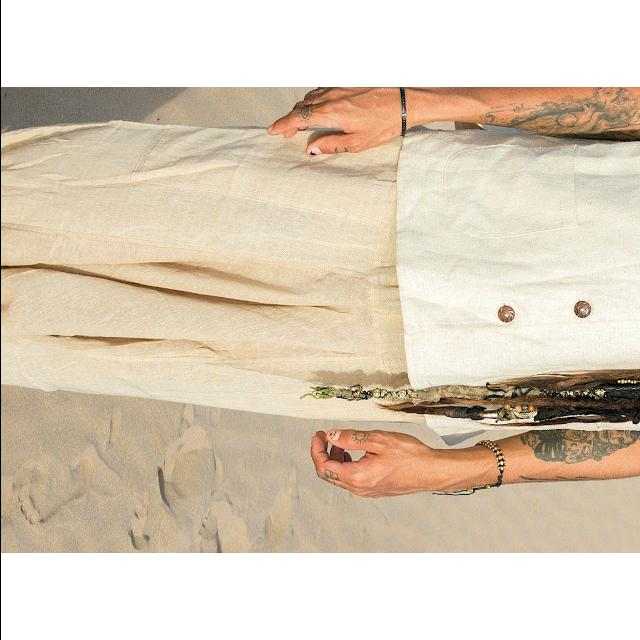linen: (0, 120, 640, 440)
